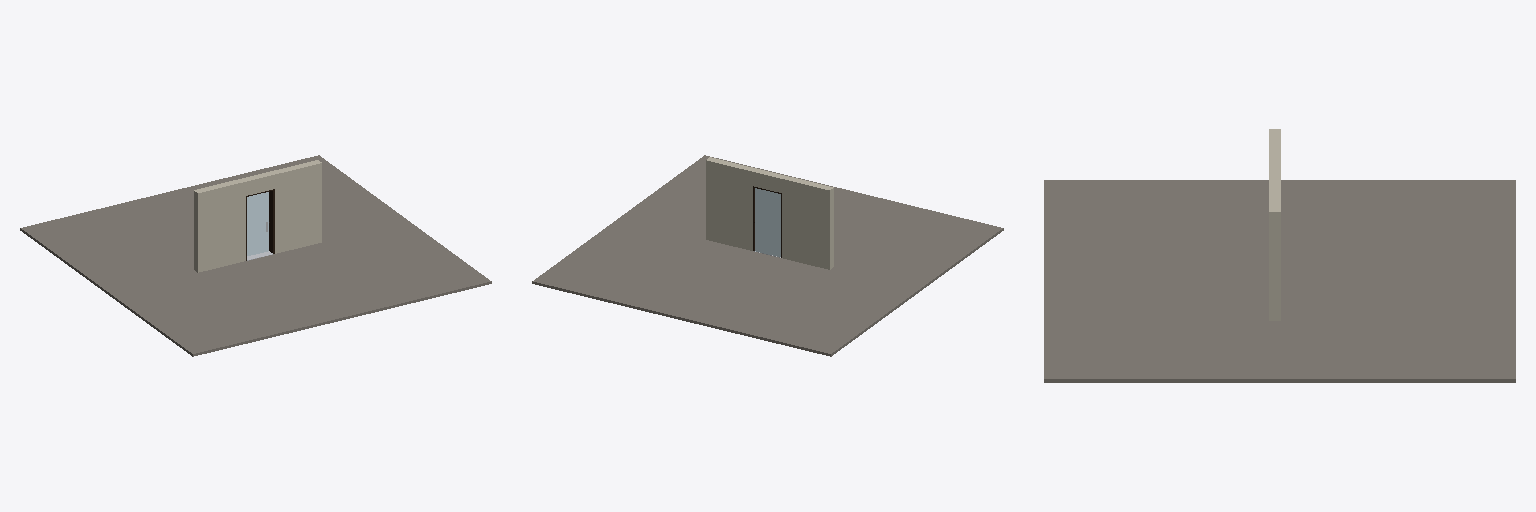
URDF robot description (db0479_automatic_swing_minimal):
<?xml version="1.0" ?>
<robot xmlns:doorbench="https://github.com/adamraudonis/DoorBench/schema/urdf-ext" name="db0479_automatic_swing_minimal">
  <link name="world_env">
    <visual name="floor_vis">
      <origin xyz="0 0 -0.05" rpy="0 0 0"/>
      <geometry>
        <box size="12 12 0.1"/>
      </geometry>
      <material name="mat_floor"/>
    </visual>
    <collision name="floor_col">
      <origin xyz="0 0 -0.05" rpy="0 0 0"/>
      <geometry>
        <box size="12 12 0.1"/>
      </geometry>
    </collision>
    <visual name="wall_left_vis">
      <origin xyz="-1.5415 -0.1335 1.5255" rpy="0 0 0"/>
      <geometry>
        <box size="1.917 0.3 3.051"/>
      </geometry>
      <material name="mat_wall"/>
    </visual>
    <collision name="wall_left_col">
      <origin xyz="-1.5415 -0.1335 1.5255" rpy="0 0 0"/>
      <geometry>
        <box size="1.917 0.3 3.051"/>
      </geometry>
    </collision>
    <visual name="wall_right_vis">
      <origin xyz="1.5565 -0.1335 1.5255" rpy="0 0 0"/>
      <geometry>
        <box size="1.887 0.3 3.051"/>
      </geometry>
      <material name="mat_wall"/>
    </visual>
    <collision name="wall_right_col">
      <origin xyz="1.5565 -0.1335 1.5255" rpy="0 0 0"/>
      <geometry>
        <box size="1.887 0.3 3.051"/>
      </geometry>
    </collision>
    <visual name="wall_header_vis">
      <origin xyz="0.015 -0.1335 2.7885" rpy="0 0 0"/>
      <geometry>
        <box size="1.196 0.3 0.525"/>
      </geometry>
      <material name="mat_wall"/>
    </visual>
    <collision name="wall_header_col">
      <origin xyz="0.015 -0.1335 2.7885" rpy="0 0 0"/>
      <geometry>
        <box size="1.196 0.3 0.525"/>
      </geometry>
    </collision>
    <visual name="jamb_hinge_vis">
      <origin xyz="-0.5605 -0.1335 1.2255" rpy="0 0 0"/>
      <geometry>
        <box size="0.045 0.3 2.451"/>
      </geometry>
      <material name="mat_frame"/>
    </visual>
    <collision name="jamb_hinge_col">
      <origin xyz="-0.5605 -0.1335 1.2255" rpy="0 0 0"/>
      <geometry>
        <box size="0.045 0.3 2.451"/>
      </geometry>
    </collision>
    <visual name="strike_1105_wall_n_vis">
      <origin xyz="0.5755 -0.1465 1.105" rpy="0 0 0"/>
      <geometry>
        <box size="0.075 0.274 0.031"/>
      </geometry>
      <material name="mat_frame"/>
    </visual>
    <collision name="strike_1105_wall_n_col">
      <origin xyz="0.5755 -0.1465 1.105" rpy="0 0 0"/>
      <geometry>
        <box size="0.075 0.274 0.031"/>
      </geometry>
    </collision>
    <visual name="strike_1105_wall_p_vis">
      <origin xyz="0.5755 0.013 1.105" rpy="0 0 0"/>
      <geometry>
        <box size="0.075 0.007 0.031"/>
      </geometry>
      <material name="mat_frame"/>
    </visual>
    <collision name="strike_1105_wall_p_col">
      <origin xyz="0.5755 0.013 1.105" rpy="0 0 0"/>
      <geometry>
        <box size="0.075 0.007 0.031"/>
      </geometry>
    </collision>
    <visual name="strike_1105_back_vis">
      <origin xyz="0.5902 0 1.105" rpy="0 0 0"/>
      <geometry>
        <box size="0.0456 0.019 0.031"/>
      </geometry>
      <material name="mat_frame"/>
    </visual>
    <collision name="strike_1105_back_col">
      <origin xyz="0.5902 0 1.105" rpy="0 0 0"/>
      <geometry>
        <box size="0.0456 0.019 0.031"/>
      </geometry>
    </collision>
    <visual name="jamb_strike_0_vis">
      <origin xyz="0.5755 -0.1335 0.54475" rpy="0 0 0"/>
      <geometry>
        <box size="0.075 0.3 1.0895"/>
      </geometry>
      <material name="mat_frame"/>
    </visual>
    <collision name="jamb_strike_0_col">
      <origin xyz="0.5755 -0.1335 0.54475" rpy="0 0 0"/>
      <geometry>
        <box size="0.075 0.3 1.0895"/>
      </geometry>
    </collision>
    <visual name="jamb_strike_1_vis">
      <origin xyz="0.5755 -0.1335 1.78575" rpy="0 0 0"/>
      <geometry>
        <box size="0.075 0.3 1.3305"/>
      </geometry>
      <material name="mat_frame"/>
    </visual>
    <collision name="jamb_strike_1_col">
      <origin xyz="0.5755 -0.1335 1.78575" rpy="0 0 0"/>
      <geometry>
        <box size="0.075 0.3 1.3305"/>
      </geometry>
    </collision>
    <visual name="jamb_head_vis">
      <origin xyz="0.015 -0.1335 2.4735" rpy="0 0 0"/>
      <geometry>
        <box size="1.196 0.3 0.045"/>
      </geometry>
      <material name="mat_frame"/>
    </visual>
    <collision name="jamb_head_col">
      <origin xyz="0.015 -0.1335 2.4735" rpy="0 0 0"/>
      <geometry>
        <box size="1.196 0.3 0.045"/>
      </geometry>
    </collision>
    <visual name="head_stud_vis">
      <origin xyz="0.015 -0.1335 2.511" rpy="0 0 0"/>
      <geometry>
        <box size="1.196 0.3 0.03"/>
      </geometry>
      <material name="mat_wall"/>
    </visual>
    <collision name="head_stud_col">
      <origin xyz="0.015 -0.1335 2.511" rpy="0 0 0"/>
      <geometry>
        <box size="1.196 0.3 0.03"/>
      </geometry>
    </collision>
    <visual name="threshold_vis">
      <origin xyz="0 -0.1335 0.0065" rpy="0 0 0"/>
      <geometry>
        <box size="1.166 0.3 0.013"/>
      </geometry>
      <material name="mat_threshold"/>
    </visual>
    <collision name="threshold_col">
      <origin xyz="0 -0.1335 0.0065" rpy="0 0 0"/>
      <geometry>
        <box size="1.166 0.3 0.013"/>
      </geometry>
    </collision>
  </link>
  <link name="leaf">
    <inertial>
      <origin xyz="0.568914 -0.017279 1.211803" rpy="0 0 0"/>
      <mass value="92.128198"/>
      <inertia ixx="42.460070958" ixy="0.028431708" ixz="0.737016131" iyy="51.724837815" iyz="-0.017715907" izz="9.271260415"/>
    </inertial>
    <visual name="leaf_glass_vis">
      <origin xyz="0.5365 -0.0165 1.232" rpy="0 0 0"/>
      <geometry>
        <box size="1.067 0.019 2.43"/>
      </geometry>
      <material name="mat_glass_leaf"/>
    </visual>
    <collision name="leaf_glass_col">
      <origin xyz="0.5365 -0.0165 1.232" rpy="0 0 0"/>
      <geometry>
        <box size="1.067 0.019 2.43"/>
      </geometry>
    </collision>
    <visual name="leaf_push_plate_n_vis">
      <origin xyz="0.965 -0.0268 0.965" rpy="0 0 0"/>
      <geometry>
        <box size="0.1 0.0016 0.4"/>
      </geometry>
      <material name="mat_op_stainless"/>
    </visual>
  </link>
  <joint name="leaf_hinge" type="revolute">
    <origin xyz="-0.535 0.0165 0" rpy="0 0 0"/>
    <parent link="world_env"/>
    <child link="leaf"/>
    <axis xyz="0 0 1"/>
    <limit lower="0" upper="1.570796" effort="2000" velocity="10"/>
    <dynamics damping="15.570702" friction="1.196857"/>
    <doorbench:spring stiffness="19.0031" springref="-2.141756" note="tau = -stiffness*(q - springref); not native URDF"/>
    <doorbench:closer damping_closing="60" damping_opening="15" backcheck_angle="0" backcheck_damping="0"/>
  </joint>
  <material name="mat_floor">
    <color rgba="0.55 0.53 0.5 1"/>
  </material>
  <material name="mat_frame">
    <color rgba="0.22 0.17 0.13 1"/>
  </material>
  <material name="mat_glass_leaf">
    <color rgba="0.85 0.92 0.95 0.25"/>
  </material>
  <material name="mat_op_stainless">
    <color rgba="0.75 0.76 0.77 1"/>
  </material>
  <material name="mat_threshold">
    <color rgba="0.8 0.81 0.83 1"/>
  </material>
  <material name="mat_wall">
    <color rgba="0.78 0.76 0.7 1"/>
  </material>
</robot>

--- What the picture shows (computed from the rendered views, not written in the file) ---
The picture shows the robot from 3 angles, left to right: view 1: azimuth 30°, elevation 25°; view 2: azimuth 150°, elevation 25°; view 3: azimuth 270°, elevation 25°; orthographic projection.
Robot: db0479_automatic_swing_minimal — 2 links, 1 joints (1 revolute); root link world_env; default pose: every joint at zero.
Visible links, largest first — view 1: world_env, leaf; view 2: world_env, leaf; view 3: world_env.
Link boxes in pixels (box(x1,y1,x2,y2)): world_env: box(20, 155, 491, 356); leaf: box(247, 192, 268, 255); world_env: box(532, 155, 1003, 356); leaf: box(755, 188, 780, 256); world_env: box(1044, 129, 1515, 382).
Size in the robot's own frame: 12 by 12 by 3.15 metres.
Geometry: primitives only (box / cylinder / sphere), no mesh files.
